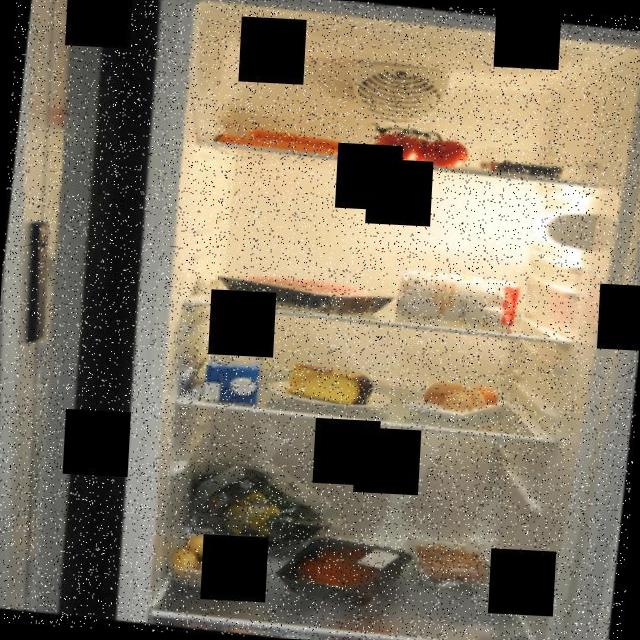Carne vacuno: (267, 529, 413, 613), (211, 264, 400, 320)
Gambas/Langostinos: (408, 537, 496, 589)
Huevos: (420, 378, 503, 420)
Leche: (197, 342, 269, 408)
Patata: (168, 532, 260, 594)
Queso: (282, 360, 378, 409)
Tomate: (362, 120, 474, 170)
Zanahoria: (212, 122, 368, 158)
blueberries: (472, 144, 575, 182)
spinach: (180, 455, 341, 562)
sugar: (392, 266, 524, 330)
